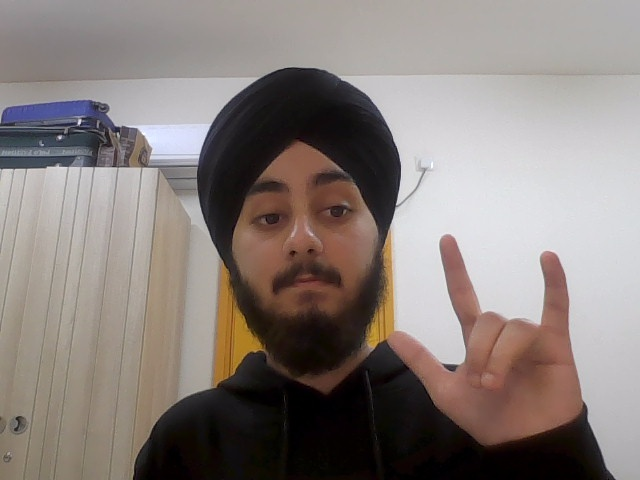ILoveYou: (385, 227, 612, 446)
